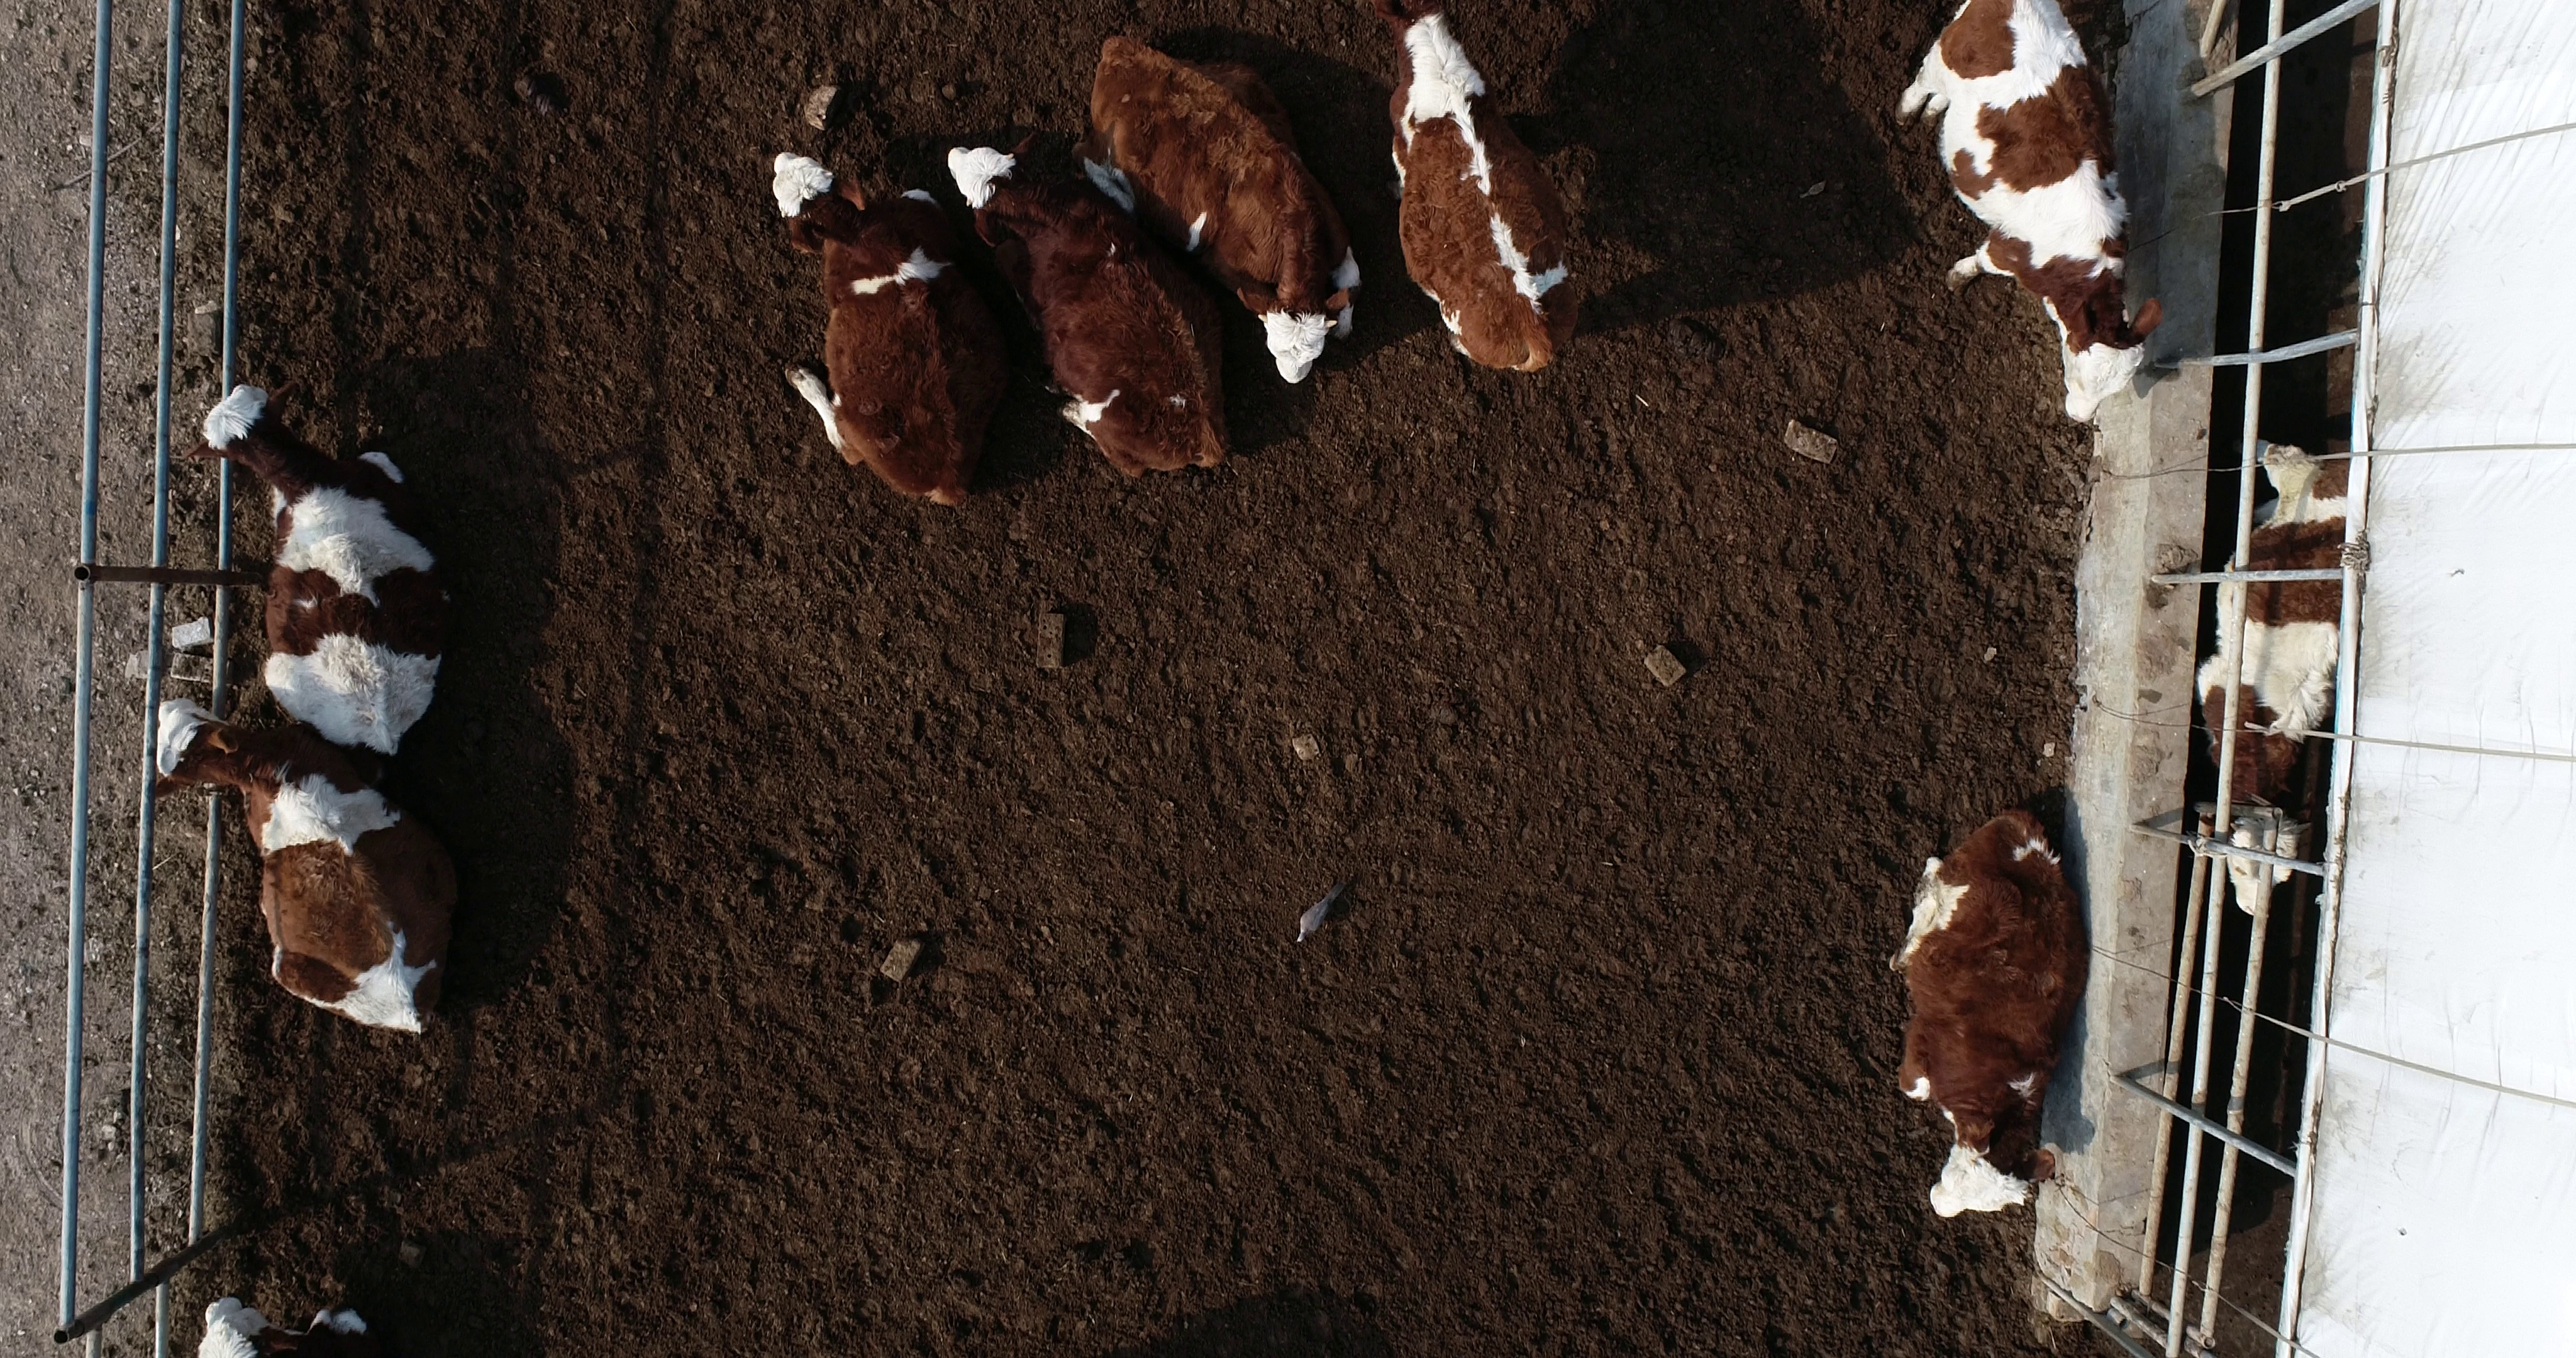cattle: (136, 682, 462, 1062), (1877, 5, 2167, 426), (942, 131, 1240, 487), (193, 371, 462, 765), (1078, 26, 1368, 390), (760, 143, 1015, 516), (1879, 799, 2090, 1225), (1365, 2, 1586, 377)
